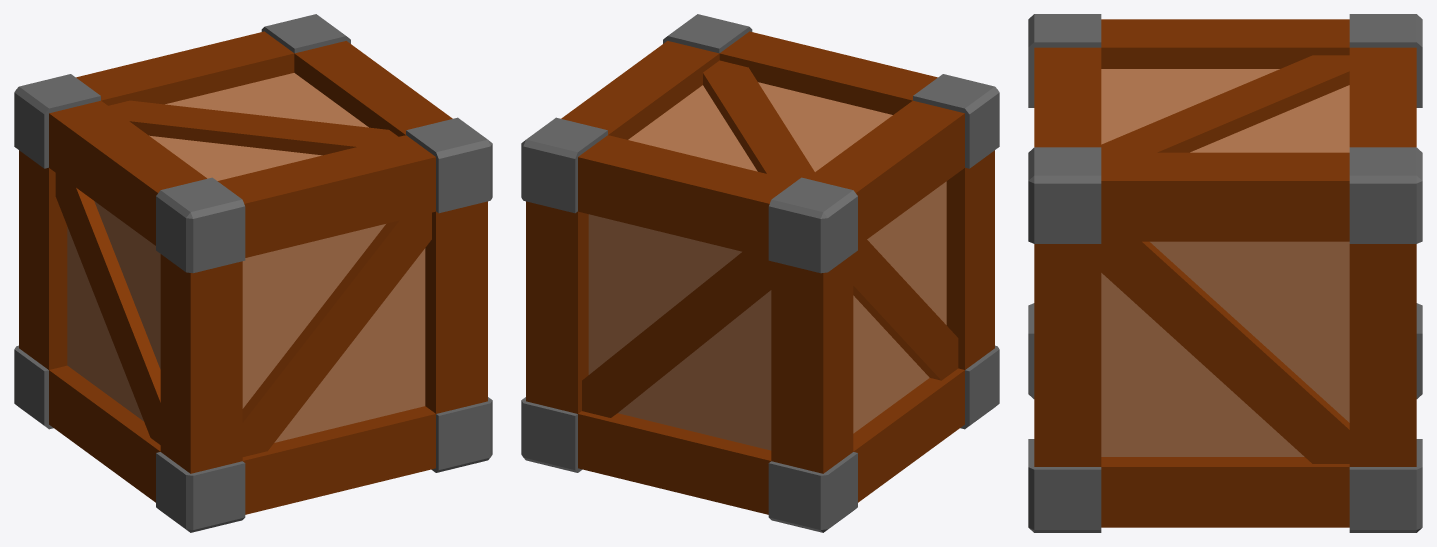
3 renders of one model, left to right at view 1: azimuth 30°, elevation 25°; view 2: azimuth 150°, elevation 25°; view 3: azimuth 270°, elevation 25°, orthographic. The views are drawn at different scales.
Visible parts, largest first — view 1: InnerPlanks; view 2: InnerPlanks; view 3: InnerPlanks.
Boxes of the visible parts, <box> form: InnerPlanks: <box>14,14,492,532</box>; InnerPlanks: <box>521,14,999,532</box>; InnerPlanks: <box>1028,14,1422,532</box>.
Bounding box in the file's own units: 103 × 103 × 103.
